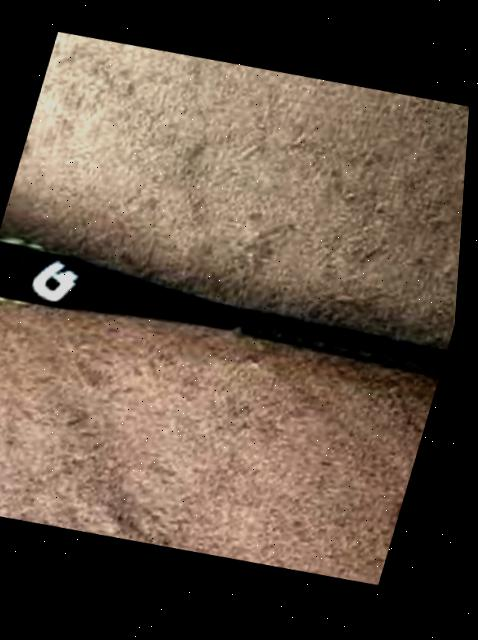baseball bat: (0, 210, 466, 410)
